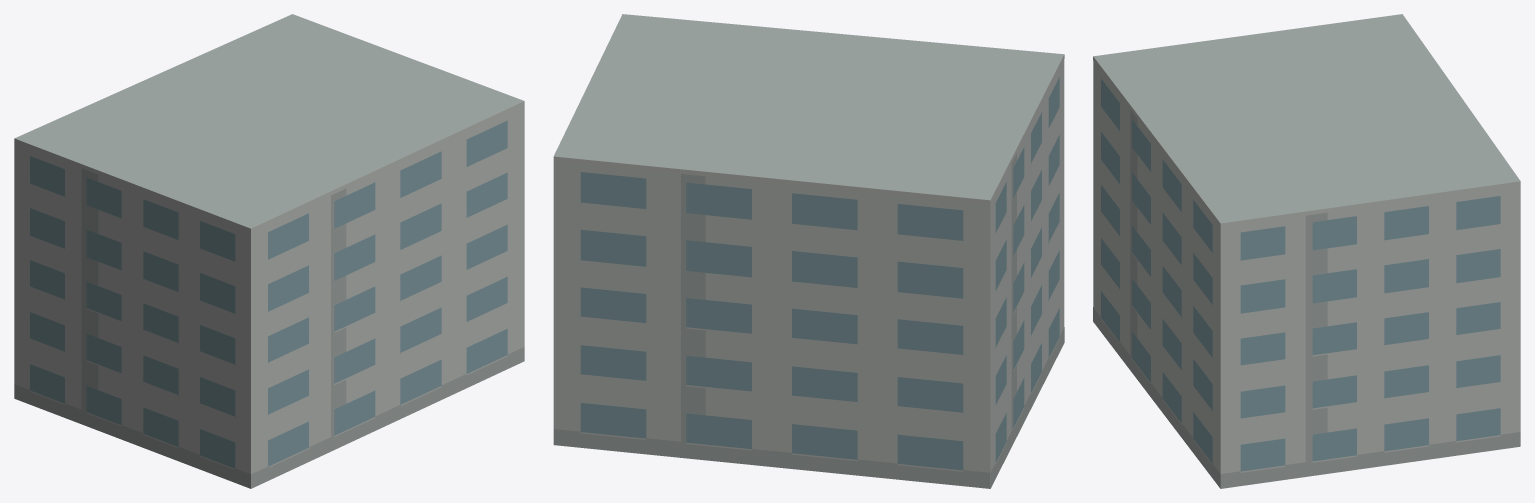
Rendered from residential-cdcb44a2-3206-4ced-a40a-c6fbaf50834d.glb.
The picture shows the model from 3 angles, left to right: view 1: azimuth 30°, elevation 25°; view 2: azimuth 150°, elevation 25°; view 3: azimuth 270°, elevation 25°; orthographic projection. The views are drawn at different scales.
Parts seen in each view (by area): view 1: residential-cdcb44a2-3206-4ced-a40a-c6fbaf50834d.tmp; view 2: residential-cdcb44a2-3206-4ced-a40a-c6fbaf50834d.tmp; view 3: residential-cdcb44a2-3206-4ced-a40a-c6fbaf50834d.tmp.
Part boxes in pixels (x1=…): residential-cdcb44a2-3206-4ced-a40a-c6fbaf50834d.tmp: x1=14, y1=14, x2=524, y2=488; residential-cdcb44a2-3206-4ced-a40a-c6fbaf50834d.tmp: x1=553, y1=14, x2=1064, y2=488; residential-cdcb44a2-3206-4ced-a40a-c6fbaf50834d.tmp: x1=1093, y1=14, x2=1520, y2=488.
Bounding box in the file's own units: 25.83 × 15.25 × 22.28.
